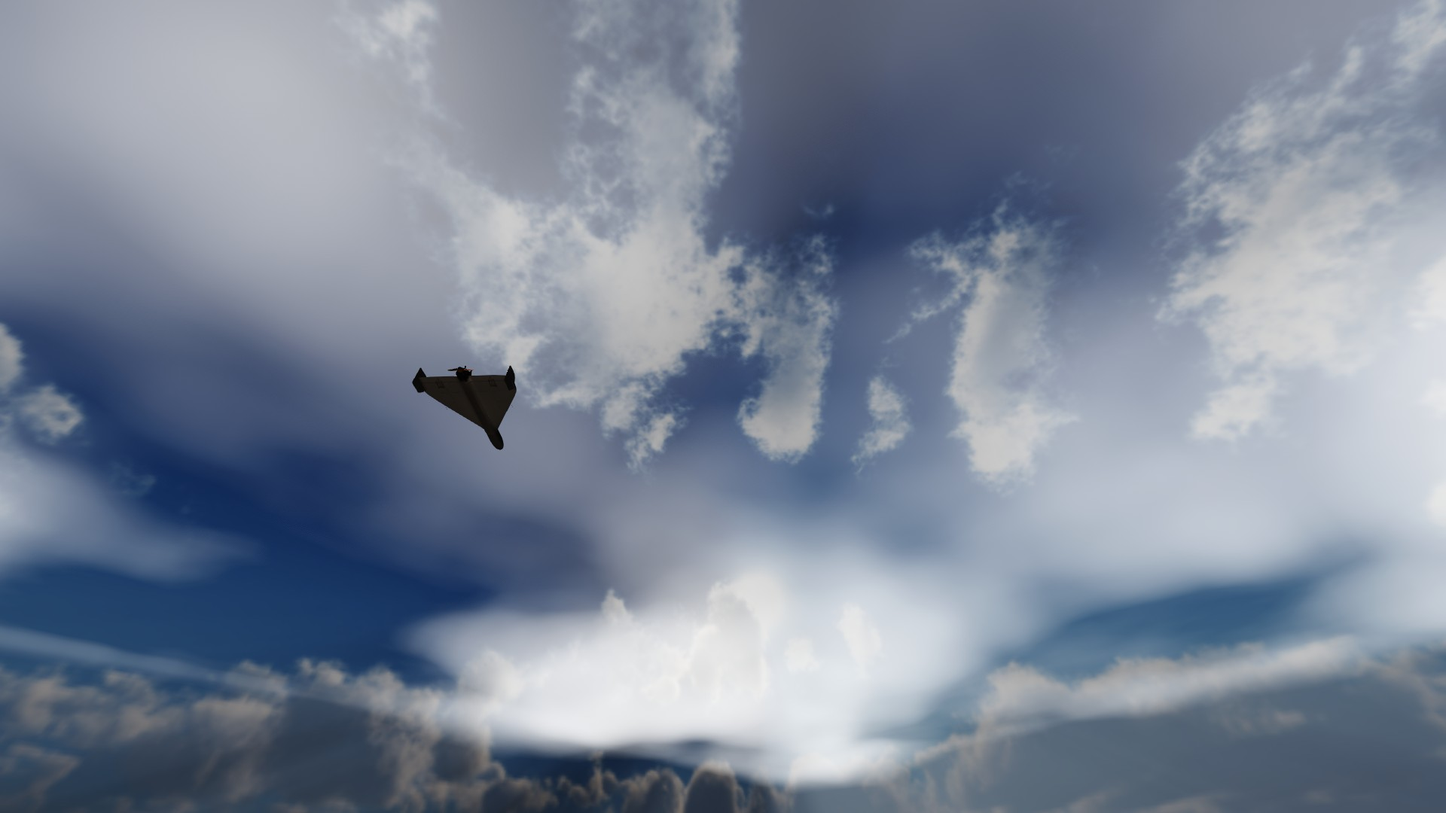shahed: (412, 365, 517, 450)
